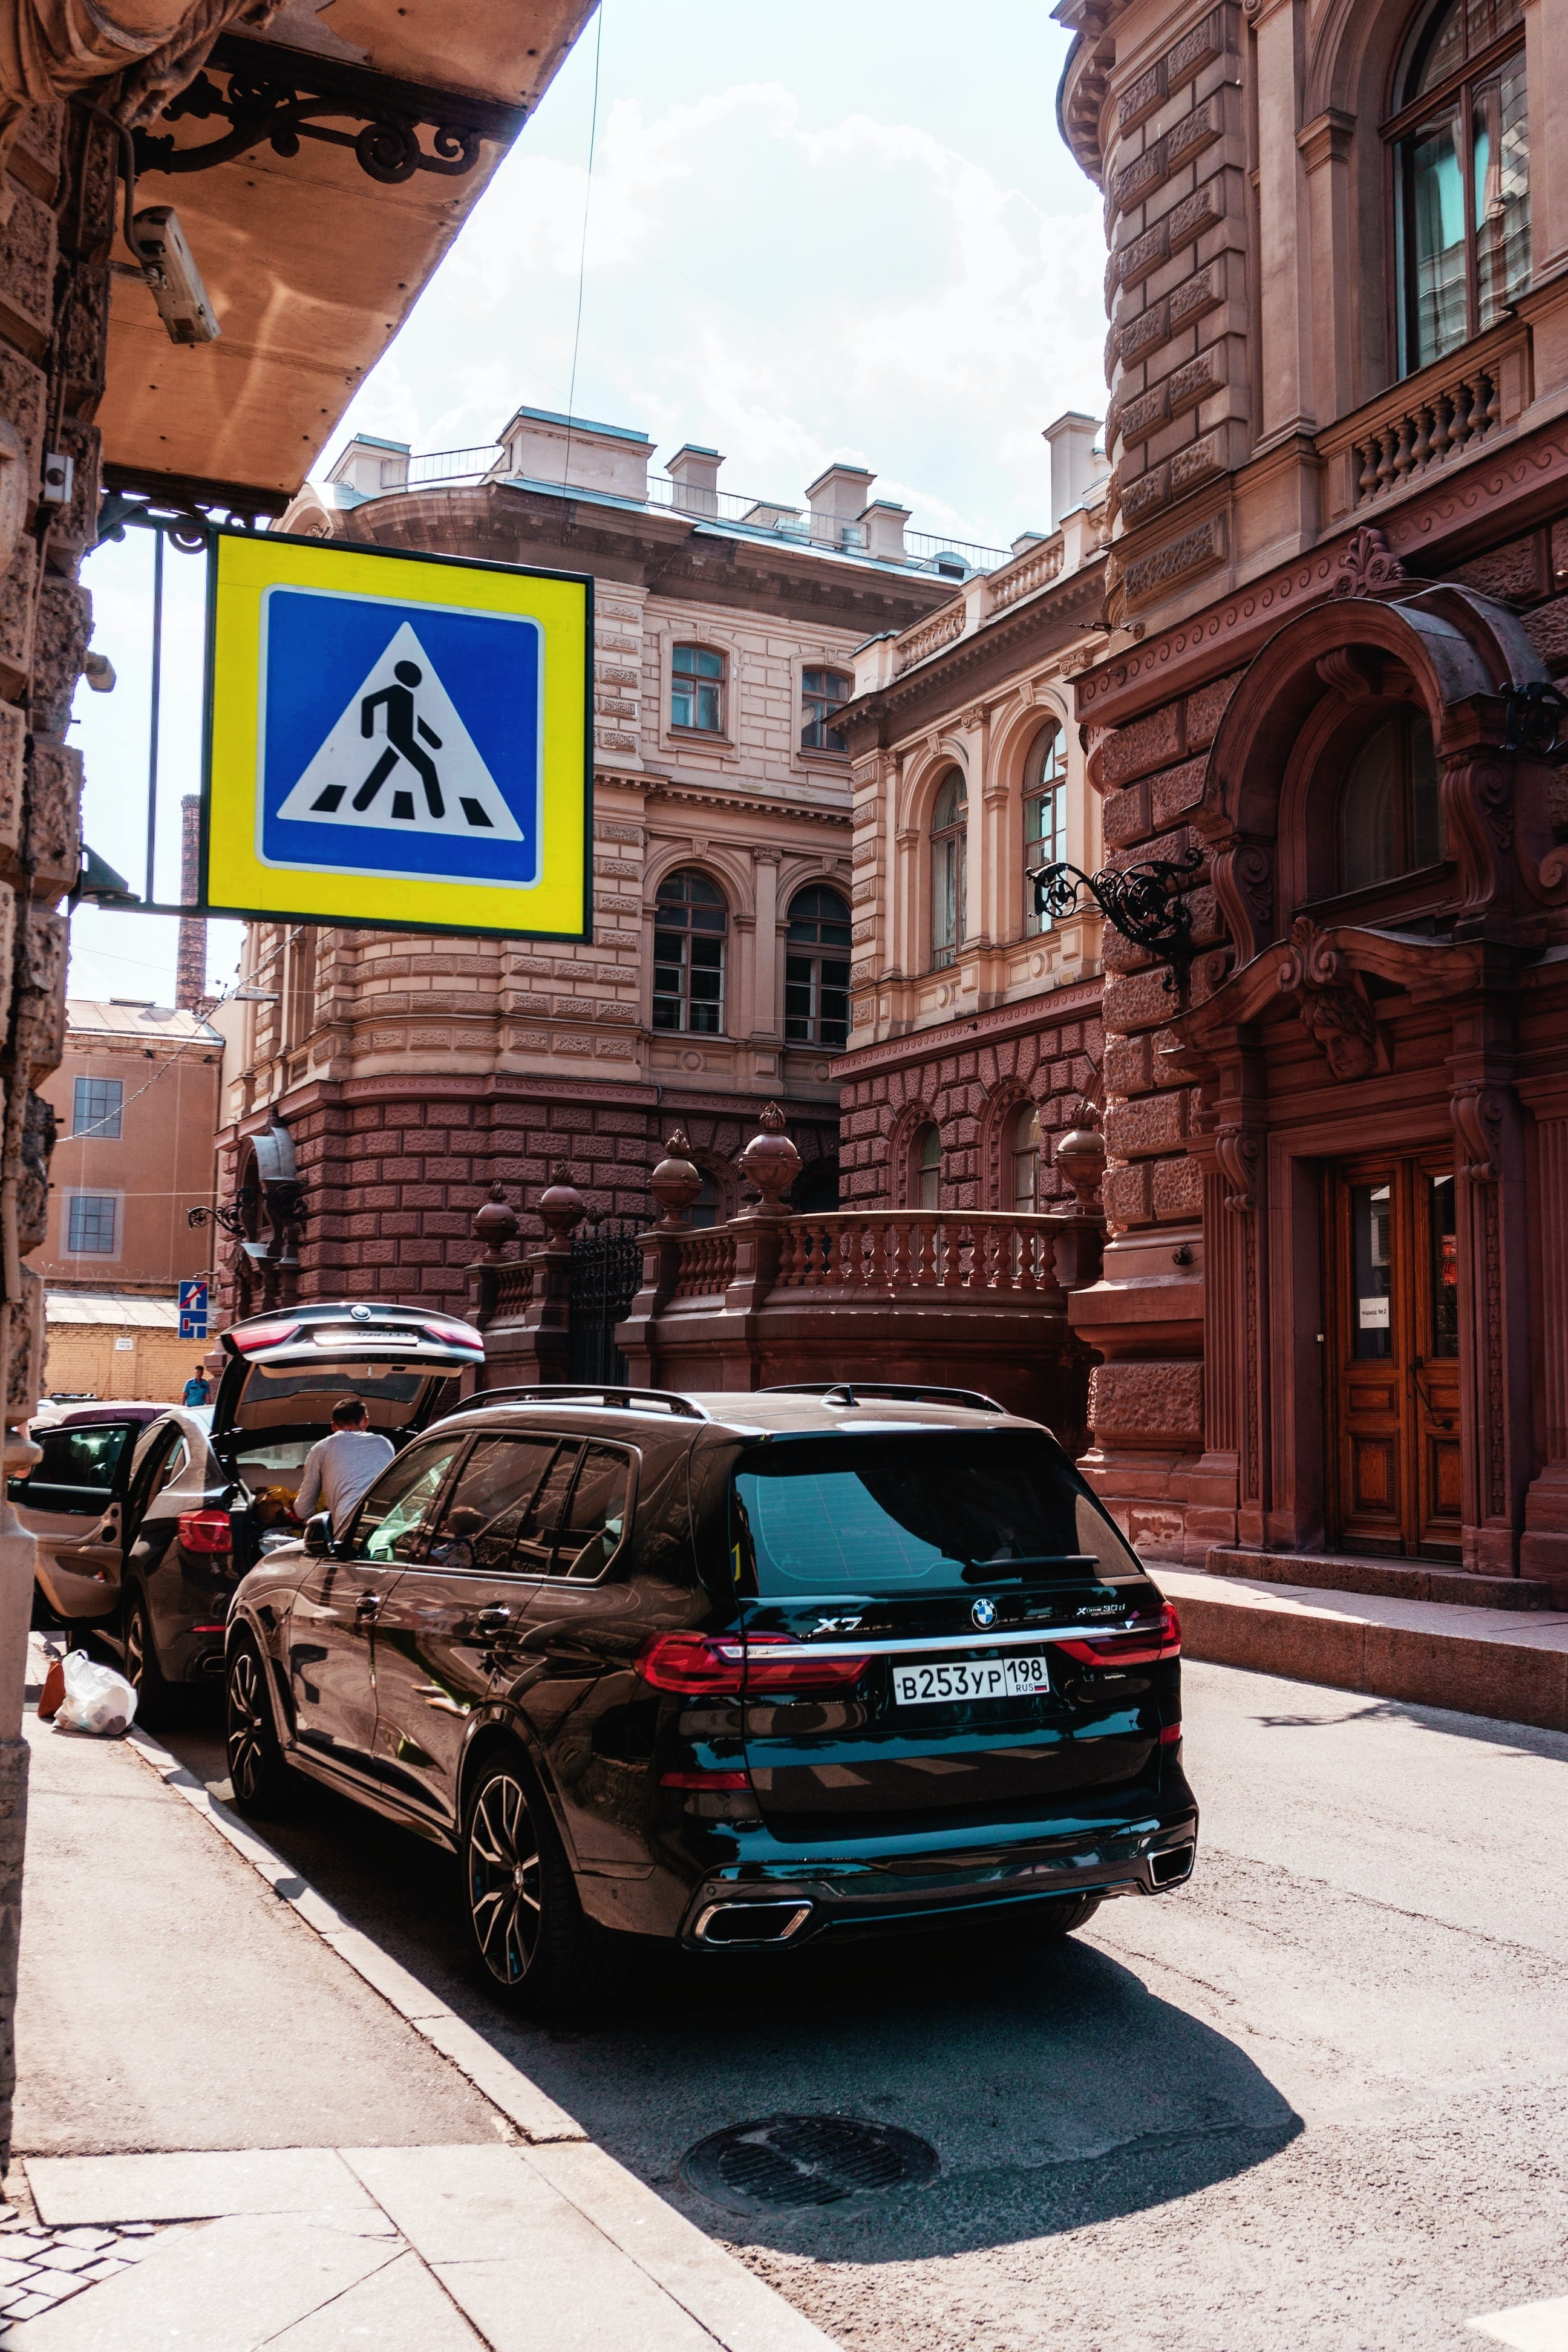plaka: (889, 1655, 1051, 1708)
